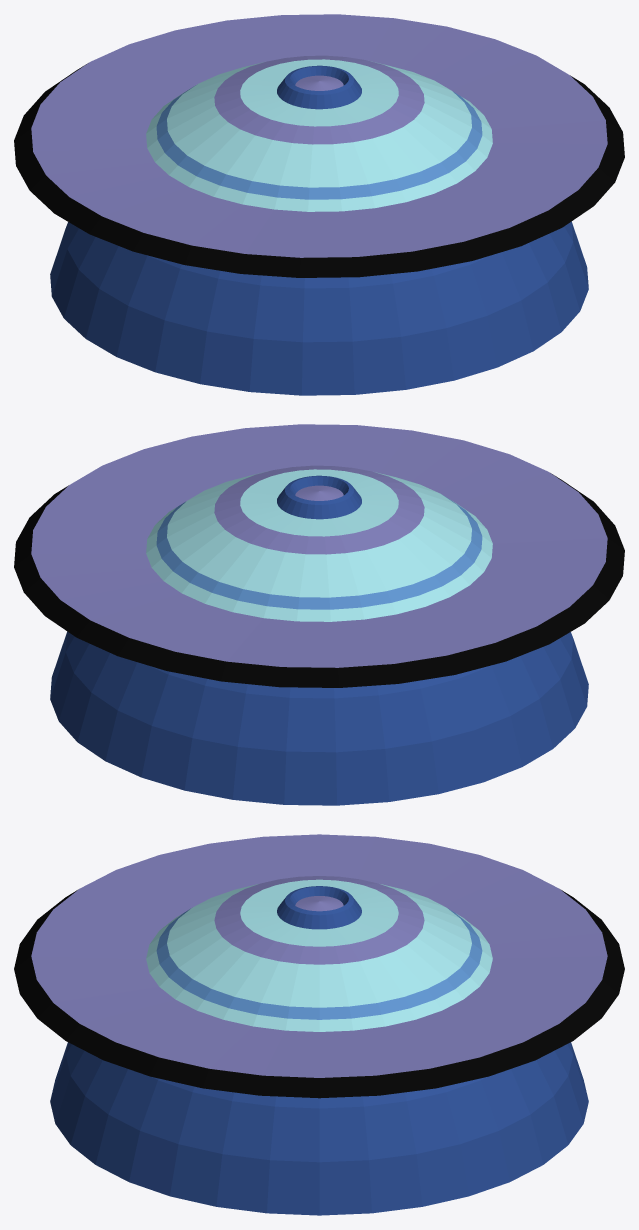
The model's file is plankton_disc.fbx.
3 views of the same model, one above another, from view 1: azimuth 30°, elevation 25°; view 2: azimuth 150°, elevation 25°; view 3: azimuth 270°, elevation 25° (orthographic).
Visible parts, largest first — view 1: Sphere; view 2: Sphere; view 3: Sphere.
Part boxes in pixels (left/top/right/bottom): Sphere: left=14, top=14, right=624, bottom=395; Sphere: left=14, top=424, right=624, bottom=805; Sphere: left=14, top=834, right=624, bottom=1215.
Bounding box in the file's own units: 1.11 × 0.4075 × 1.11.
